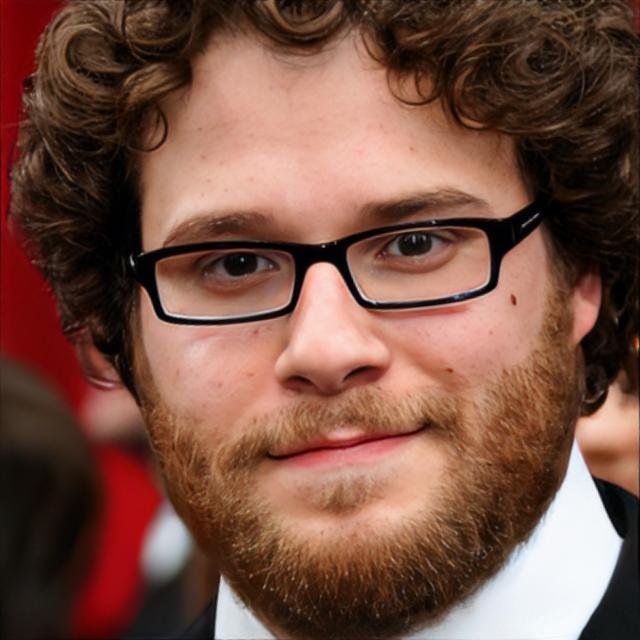content: (132, 50, 550, 628)
